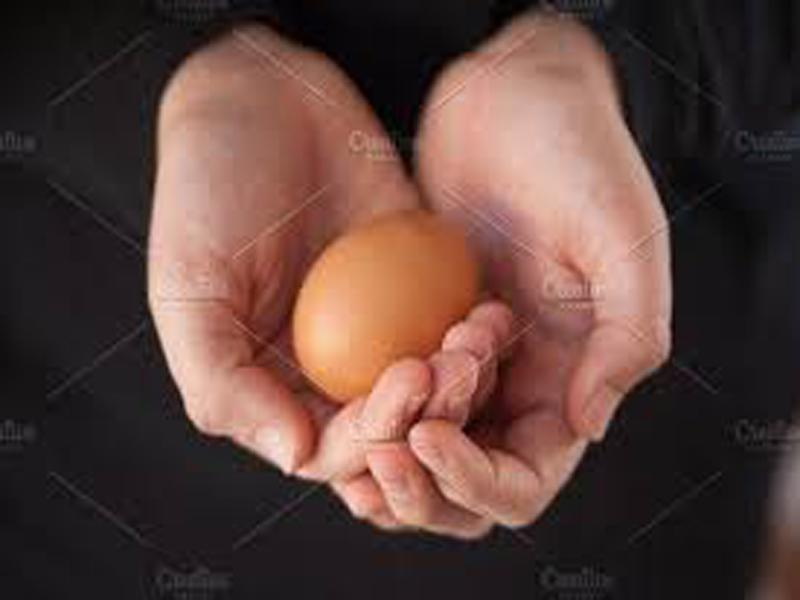Eggs: (291, 210, 489, 397)
